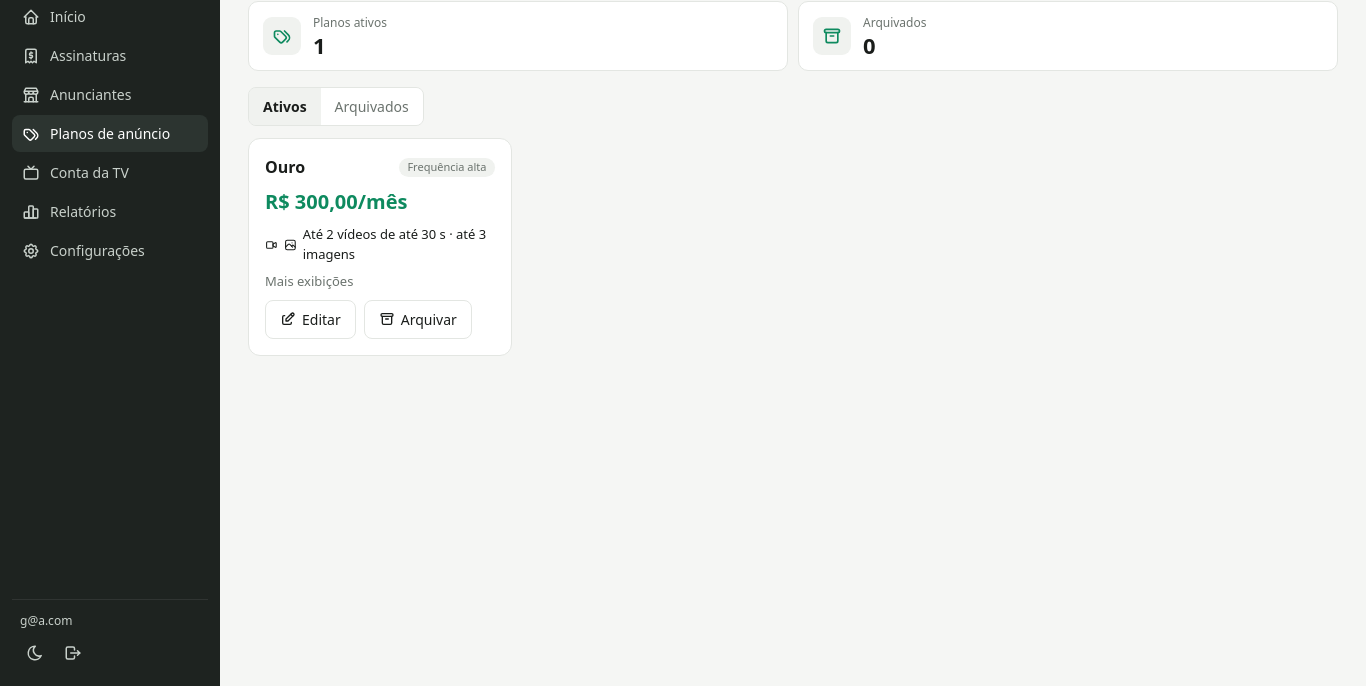
Scenario: ad plans › edits a plan with PATCH
The width and height of the screenshot is (1366, 686).
Click the button with aria-label "Editar Ouro" at x=310, y=319, box [265, 300, 356, 339]
(page scrolled)
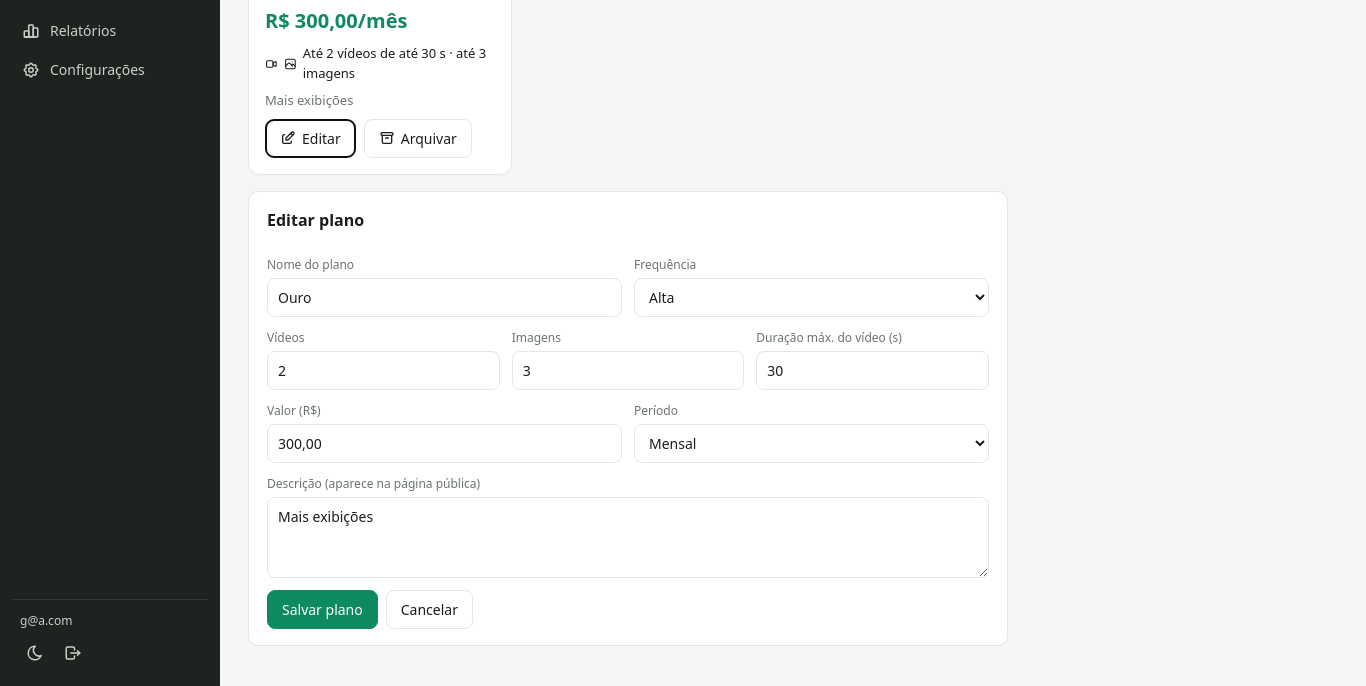
Result: the field labelled "Nome do plano" holds "Ouro"
Result: the field labelled "Valor (R$)" holds "300,00" at [267, 424, 622, 463]
Replace the text in the field labelled "Nome do plano" with "Ouro Plus" at x=444, y=297, box [267, 278, 622, 317]
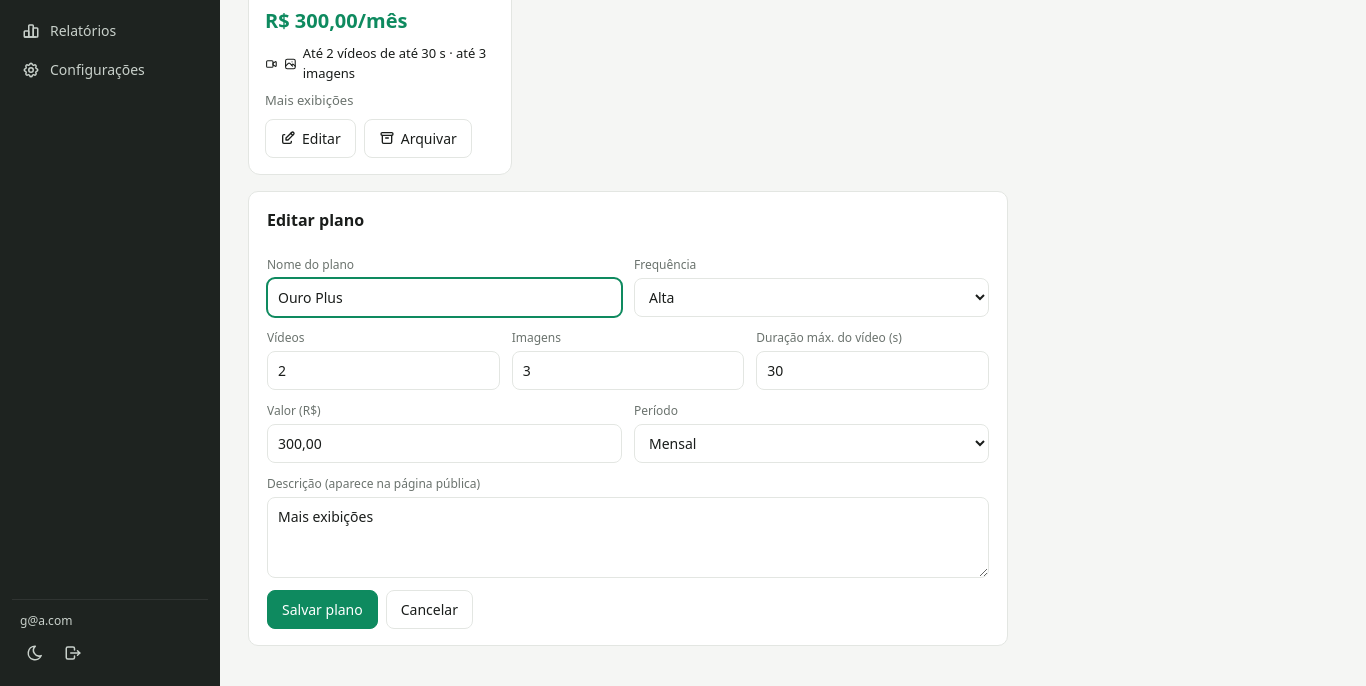
Click the button "Salvar plano" at x=322, y=609, box [267, 590, 378, 629]
(page scrolled)
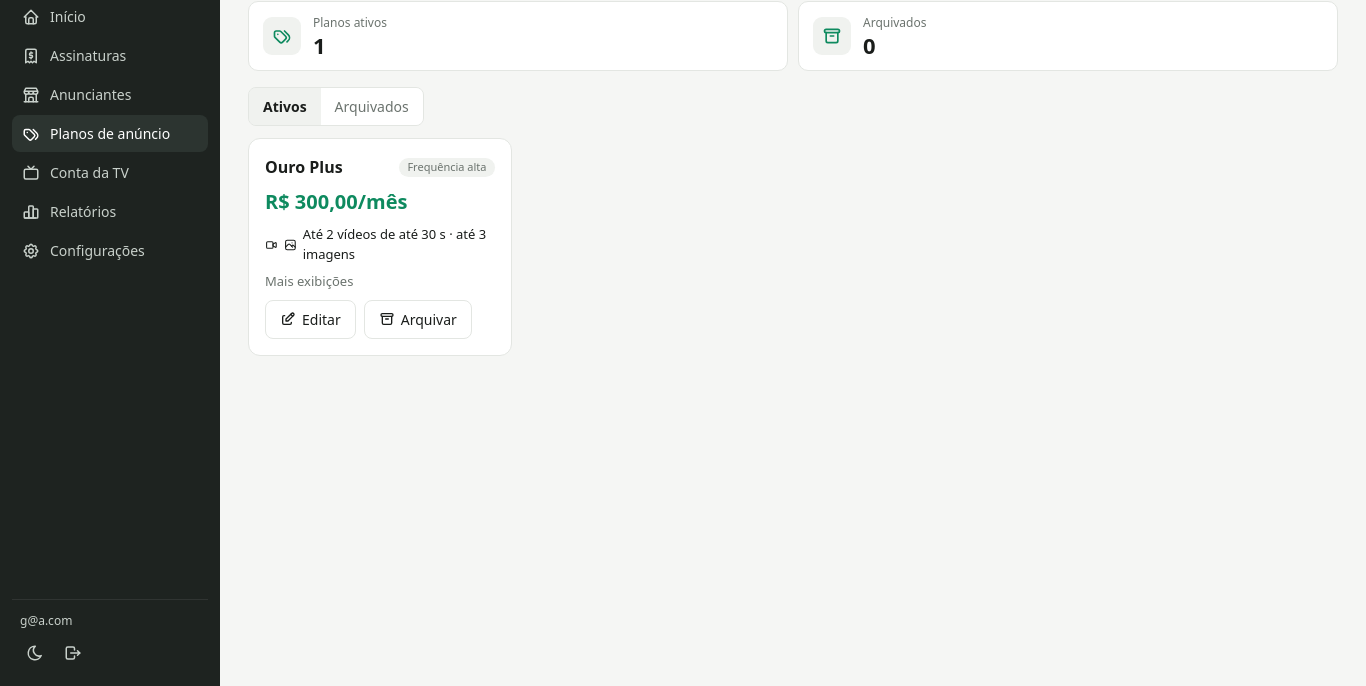
Result: the text "Ouro Plus" is shown at [265, 155, 343, 179]
